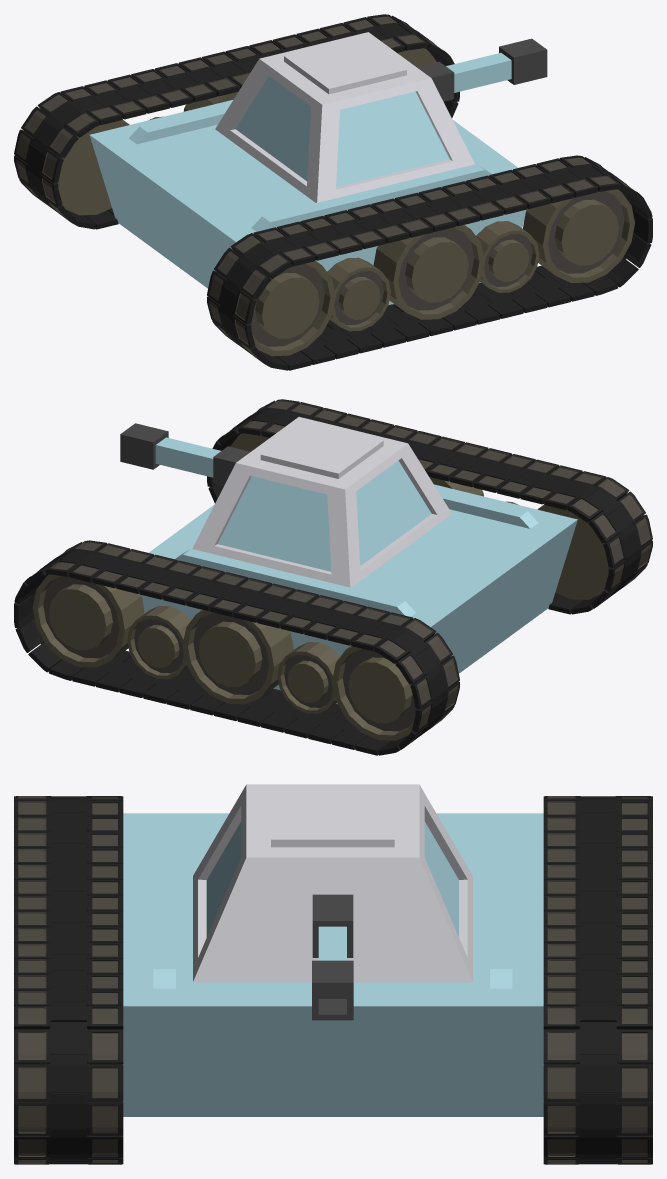
File: LightBlueTank.fbx
3 renders of one model, top to bottom at view 1: azimuth 30°, elevation 25°; view 2: azimuth 150°, elevation 25°; view 3: azimuth 270°, elevation 25°, orthographic. The views are drawn at different scales.
Parts seen in each view (by area): view 1: Cube.006; view 2: Cube.006; view 3: Cube.006.
Boxes of the visible parts, box(x1,y1,x2,y2) form: Cube.006: box(14, 14, 652, 370); Cube.006: box(14, 399, 652, 755); Cube.006: box(14, 784, 652, 1164).
Size of the model in its own units: 197 by 83.38 by 194.
